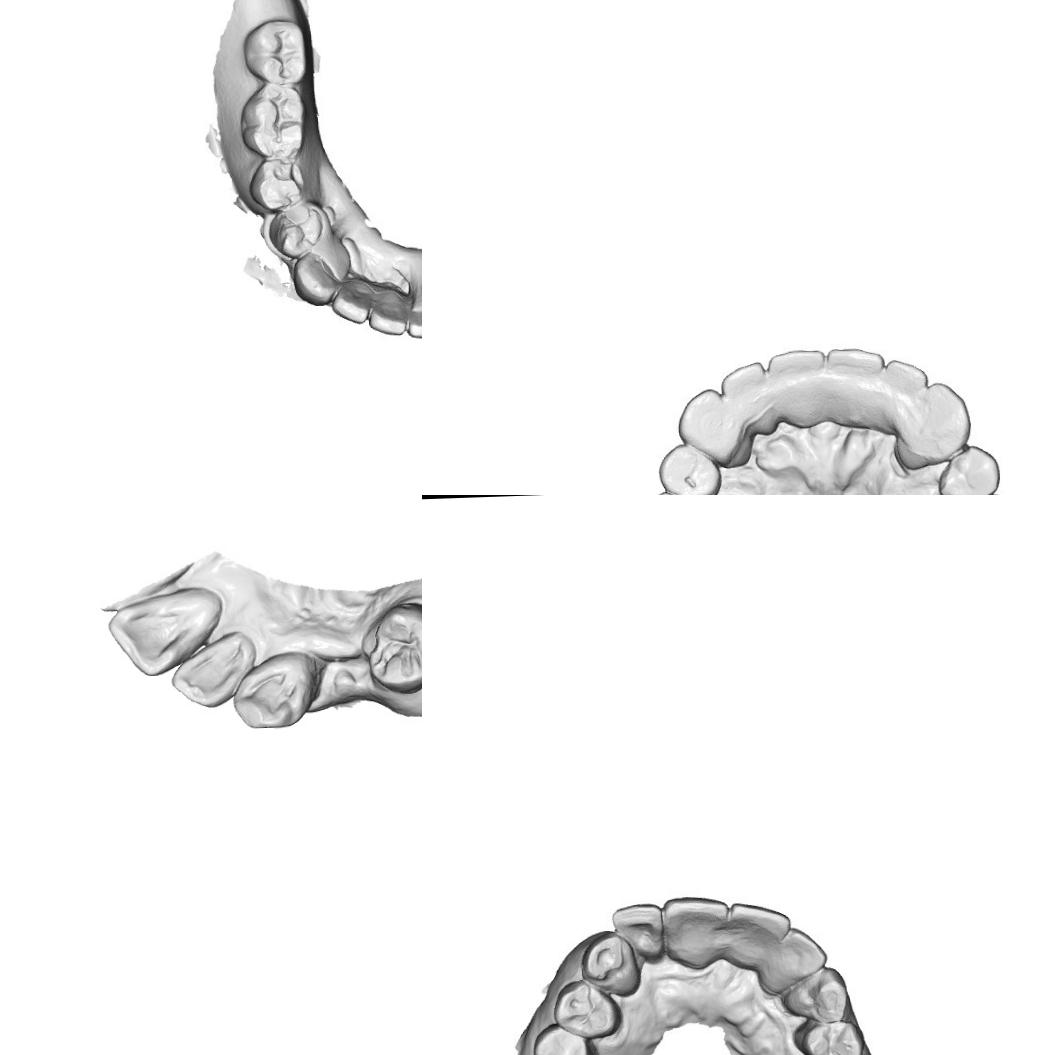canine: (230, 648, 321, 736), (907, 380, 974, 462), (677, 388, 744, 463), (786, 964, 853, 1029), (581, 932, 640, 998), (295, 244, 349, 306)
incisor: (105, 583, 223, 680), (169, 630, 258, 712), (722, 898, 793, 968), (764, 922, 833, 992), (664, 894, 730, 962), (823, 347, 889, 412), (769, 350, 833, 417), (613, 898, 666, 962), (722, 360, 772, 420), (368, 285, 414, 335), (883, 359, 926, 410), (336, 280, 374, 318), (407, 300, 422, 339)
molar: (238, 82, 306, 157), (236, 22, 304, 82)
premolar: (355, 599, 422, 694), (550, 978, 622, 1040), (939, 444, 1001, 495), (655, 449, 721, 495), (794, 1015, 862, 1055), (252, 156, 304, 208), (271, 200, 323, 250), (529, 1023, 596, 1055)
